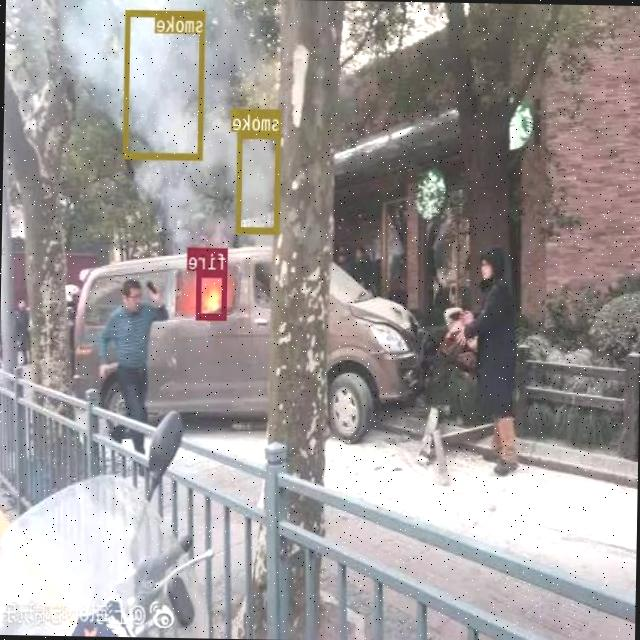fire: (197, 269, 228, 319)
smoke: (124, 8, 206, 158), (236, 130, 282, 232)
